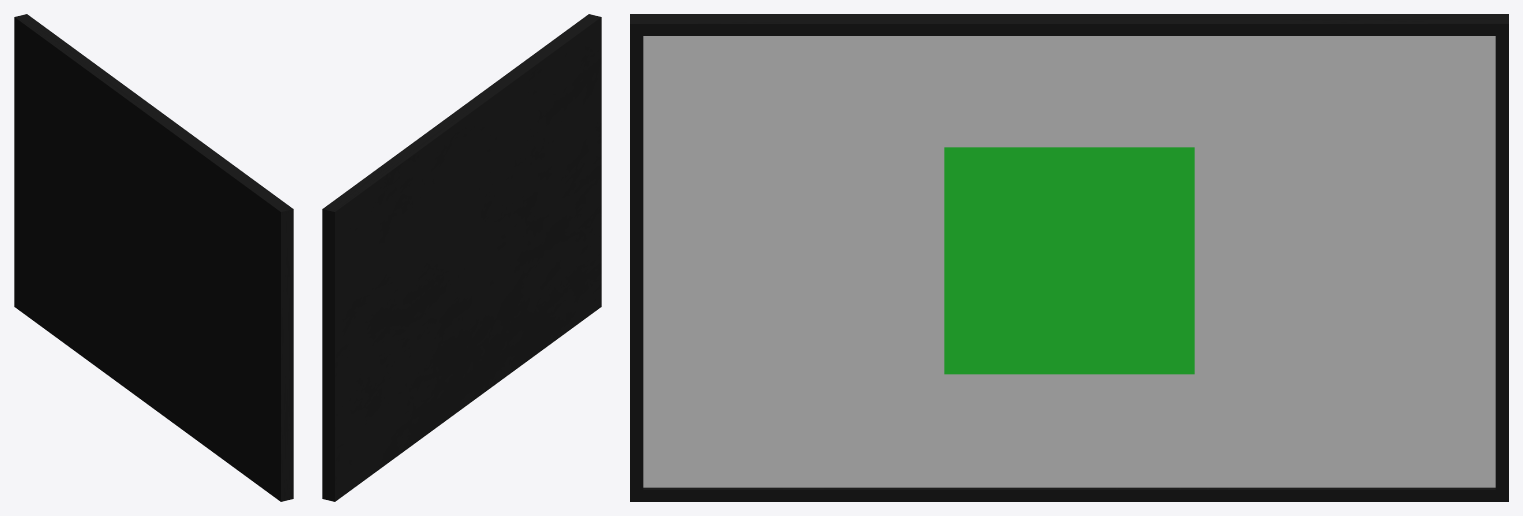
File: rect_frame.glb
3 views of the same model, side by side, from view 1: azimuth 30°, elevation 25°; view 2: azimuth 150°, elevation 25°; view 3: azimuth 270°, elevation 25° (orthographic). The views are drawn at different scales.
Parts seen in each view (by area): view 1: Frame; view 2: Frame; view 3: BackgroundCanvas, ArtCanvas, Frame.
Boxes of the visible parts, x1=… form: Frame: x1=14, y1=14, x2=293, y2=501; Frame: x1=322, y1=14, x2=601, y2=501; BackgroundCanvas: x1=643, y1=36, x2=1495, y2=487; ArtCanvas: x1=944, y1=147, x2=1194, y2=374; Frame: x1=630, y1=14, x2=1508, y2=501.
Size of the model in its own units: 0.2718 by 6 by 10.
Materials: 2 (1 with a texture image).
